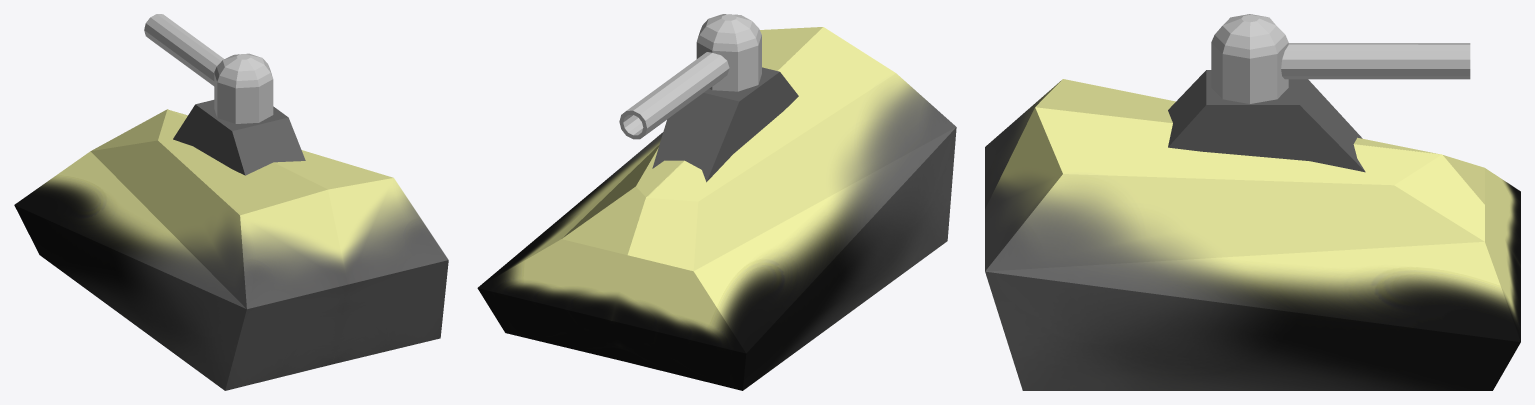
Rendered from tank.fbx.
The picture shows the model from 3 angles, left to right: view 1: azimuth 30°, elevation 25°; view 2: azimuth 150°, elevation 25°; view 3: azimuth 270°, elevation 25°; orthographic projection. The views are drawn at different scales.
Visible parts, largest first — view 1: tanque, cañon; view 2: tanque, cañon; view 3: tanque, cañon.
Part boxes in pixels (box(x1,y1,x2,y2)): tanque: box(14, 100, 448, 390); cañon: box(144, 14, 273, 123); tanque: box(477, 27, 956, 390); cañon: box(619, 14, 761, 139); tanque: box(985, 70, 1520, 390); cañon: box(1211, 14, 1470, 103).
Size of the model in its own units: 133 by 126 by 200.
